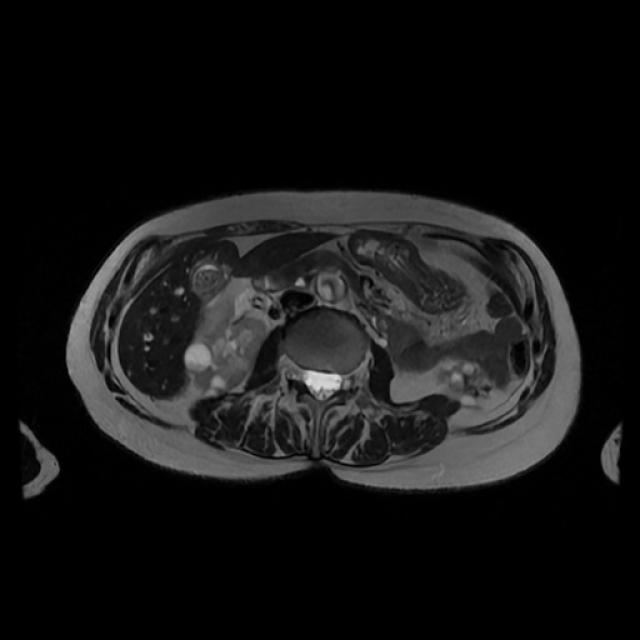sag: (182, 315, 267, 400)
sol: (433, 356, 497, 407)
